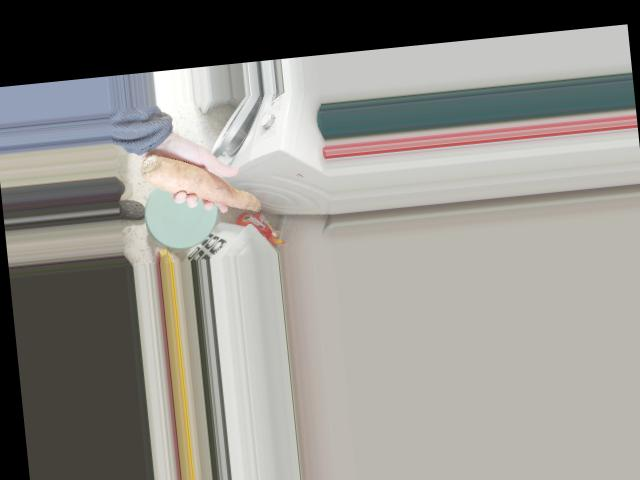sweet_potato: (137, 140, 270, 227)
